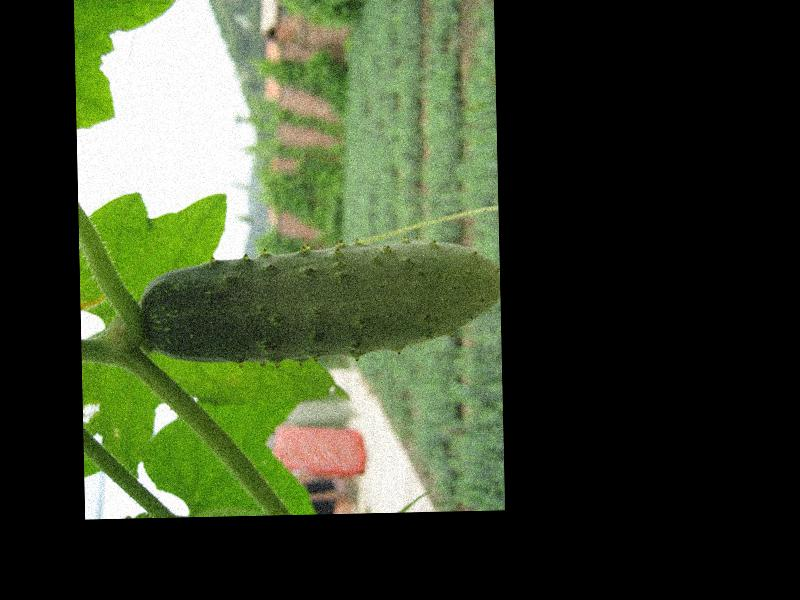Cucumber: (140, 241, 500, 364)
